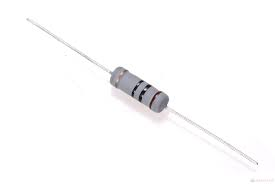resistor: (87, 51, 177, 114)
